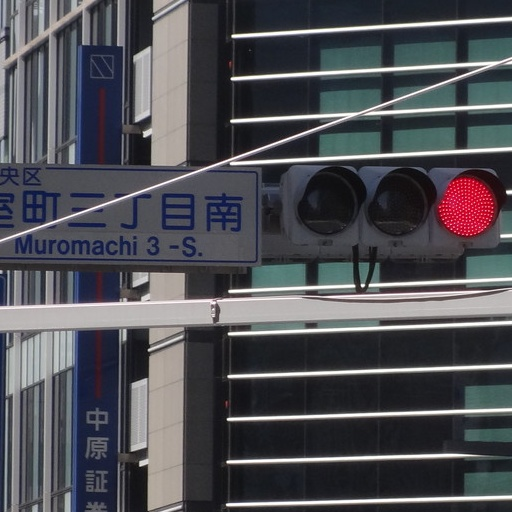Traffic_Signal_Red: (279, 149, 501, 253)
